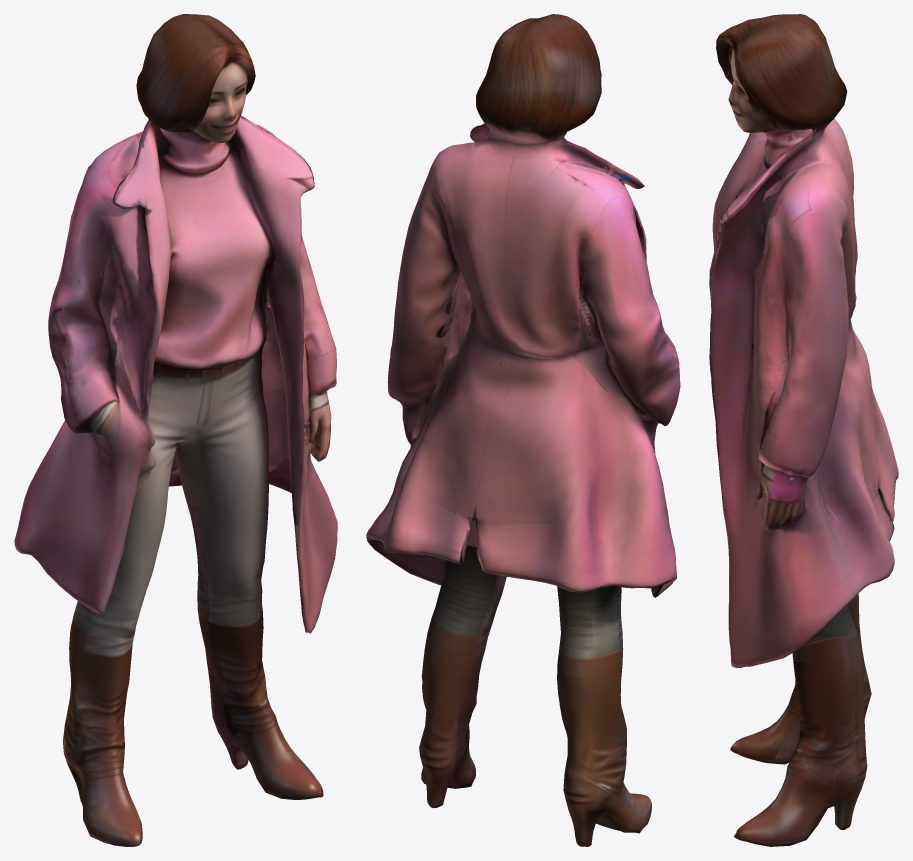
The model's file is 3D Mannequinn.glb.
3 renders of one model, left to right at view 1: azimuth 30°, elevation 25°; view 2: azimuth 150°, elevation 25°; view 3: azimuth 270°, elevation 25°, orthographic.
Size of the model in its own units: 0.8247 by 2 by 0.4399.
Materials: 1 (1 with a texture image).
